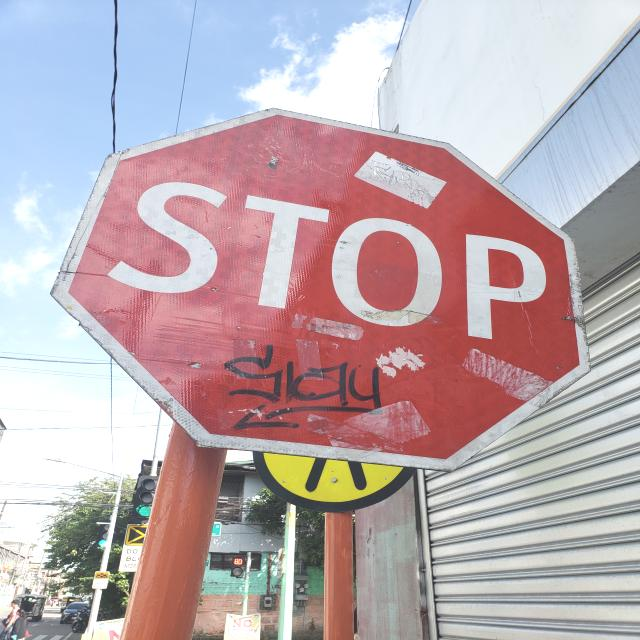stop-sign: (48, 104, 592, 473)
